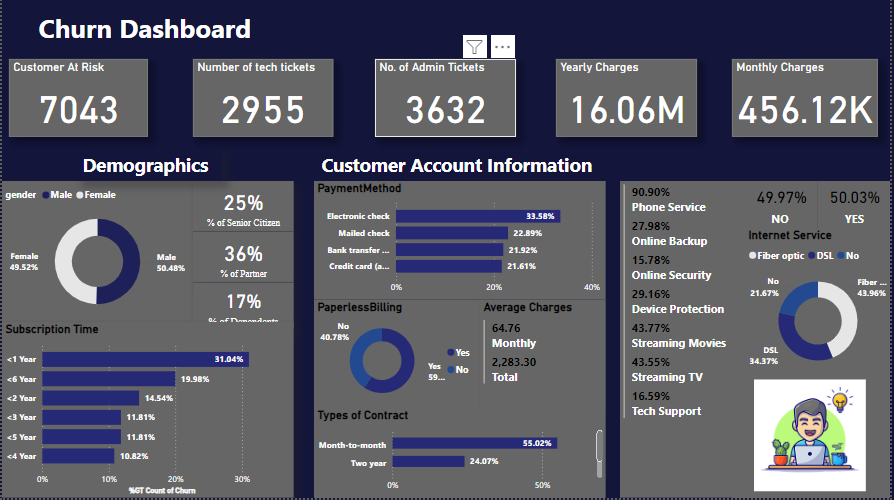

The page's visual inventory and layout, read from the dashboard file:
{"tool":"powerbi","page":{"name":"Page 2","canvas":[1280,720],"ordinal":1},"visuals":[{"type":"card","title":"Customer At Risk","fields":{"Values":["CountNonNull(01 Churn-Dataset.customerID)"]},"box":[10.1,87.8,200.2,112.3],"z":0},{"type":"card","title":"Monthly Charges","fields":{"Values":["Sum(01 Churn-Dataset.MonthlyCharges)"]},"box":[1051.2,87.8,210.2,112.3],"z":1000},{"type":"card","title":"Number of tech tickets","fields":{"Values":["Sum(01 Churn-Dataset.numTechTickets)"]},"box":[275,87.8,201.6,112.3],"z":2000},{"type":"card","title":"No. of Admin Tickets","fields":{"Values":["Sum(01 Churn-Dataset.numAdminTickets)"]},"box":[537.1,87.8,203,112.3],"z":3000},{"type":"card","title":"Yearly Charges","fields":{"Values":["Sum(01 Churn-Dataset.TotalCharges)"]},"box":[797.8,87.8,203,112.3],"z":4000},{"type":"donutChart","fields":{"Category":["01 Churn-Dataset.gender"],"Y":["CountNonNull(01 Churn-Dataset.gender)"]},"box":[0,263.5,275,203],"z":5000},{"type":"card","fields":{"Values":["Churn.% of Senior Citizen"]},"box":[275,263.5,145.4,73.4],"z":6000},{"type":"card","fields":{"Values":["Churn.% of Partner"]},"box":[275,337,145.4,73.4],"z":7000},{"type":"card","fields":{"Values":["Churn.% of Dependents"]},"box":[275,410.4,145.4,66.2],"z":8000},{"type":"clusteredBarChart","title":"Subscription Time","fields":{"Category":["Churn.Tenure (in years)"],"Y":["CountNonNull(Churn.Churn)"]},"box":[0,466.6,420.5,253.4],"z":9000},{"type":"clusteredBarChart","title":"PaymentMethod","fields":{"Category":["Churn.PaymentMethod"],"Y":["CountNonNull(Churn.PaymentMethod)"]},"box":[449.3,263.5,420.5,171.4],"z":10000},{"type":"donutChart","title":"PaperlessBilling","fields":{"Category":["Churn.PaperlessBilling"],"Y":["CountNonNull(Churn.PaperlessBilling)"]},"box":[449.3,434.9,239,155.5],"z":11000},{"type":"multiRowCard","title":"Average Charges","fields":{"Values":["Avg(Churn.MonthlyCharges)","Avg(Churn.TotalCharges)"]},"box":[688.3,434.9,181.4,155.5],"z":12000},{"type":"clusteredBarChart","title":"Types of Contract","fields":{"Category":["Churn.Contract"],"Y":["CountNonNull(Churn.Contract)"]},"box":[449.3,590.4,420.5,129.6],"z":13000},{"type":"multiRowCard","title":"Average Charges","fields":{"Values":["Churn.% of Phone Service","Churn.% of Online Backup","Churn.% of Online Security","Churn.% of Device Protection","Churn.% of Streaming Movies","Churn.% of Streaming TV","Churn.% of Tech Support"]},"box":[889.9,263.5,180,456.5],"z":14000},{"type":"card","title":"Average Charges","fields":{"Values":["Churn.% of NO MultipleLines"]},"box":[1069.9,263.5,105.1,67.7],"z":15000},{"type":"card","title":"Average Charges","fields":{"Values":["Churn.% of Yes MultipleLines"]},"box":[1175,263.5,105.1,67.7],"z":16000},{"type":"donutChart","title":"Internet Service","fields":{"Category":["Churn.InternetService"],"Y":["CountNonNull(Churn.InternetService)"]},"box":[1069.9,331.2,210.2,220.3],"z":17000},{"type":"shape","box":[1051.2,541.4,229,178.6],"z":18000},{"type":"textbox","box":[110.9,216,205.9,47.5],"z":19000},{"type":"textbox","box":[455,216,414.7,47.5],"z":20000},{"type":"textbox","box":[47.5,13,357.1,60.5],"z":21000},{"type":"image","box":[1069.9,544.3,187.2,171.4],"z":22000}]}

Visuals, with their boxes in screenshot pixels (x1, y1, x2, y2), scaled from the page's 1280x720 canvas onto the 894x500 screenshot:
"Customer At Risk" card: rect(7, 61, 147, 139)
"Monthly Charges" card: rect(734, 61, 881, 139)
"Number of tech tickets" card: rect(192, 61, 333, 139)
"No. of Admin Tickets" card: rect(375, 61, 517, 139)
"Yearly Charges" card: rect(557, 61, 699, 139)
donutChart - 01 Churn-Dataset.gender x CountNonNull(01 Churn-Dataset.gender): rect(0, 183, 192, 324)
card - Churn.% of Senior Citizen: rect(192, 183, 294, 234)
card - Churn.% of Partner: rect(192, 234, 294, 285)
card - Churn.% of Dependents: rect(192, 285, 294, 331)
"Subscription Time" clusteredBarChart: rect(0, 324, 294, 499)
"PaymentMethod" clusteredBarChart: rect(314, 183, 608, 302)
"PaperlessBilling" donutChart: rect(314, 302, 481, 410)
"Average Charges" multiRowCard: rect(481, 302, 607, 410)
"Types of Contract" clusteredBarChart: rect(314, 410, 608, 499)
"Average Charges" multiRowCard: rect(622, 183, 747, 499)
"Average Charges" card: rect(747, 183, 821, 230)
"Average Charges" card: rect(821, 183, 893, 230)
"Internet Service" donutChart: rect(747, 230, 893, 383)
shape: rect(734, 376, 893, 499)
textbox: rect(77, 150, 221, 183)
textbox: rect(318, 150, 607, 183)
textbox: rect(33, 9, 283, 51)
image: rect(747, 378, 878, 497)
